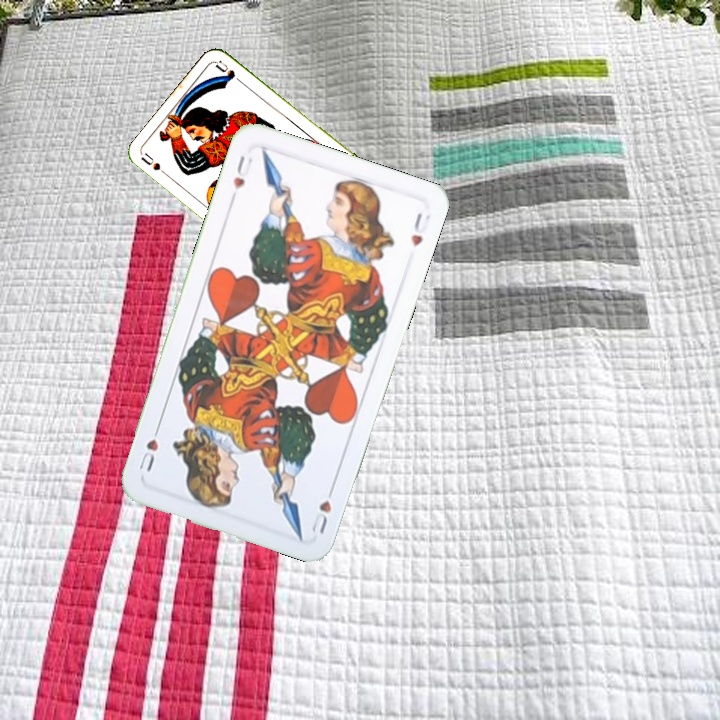HU: (306, 481, 337, 537), (227, 151, 256, 203)
SU: (138, 149, 174, 181)
